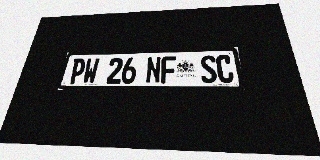2: (106, 58, 123, 84)
6: (121, 57, 137, 84)
C: (215, 55, 235, 83)
F: (161, 56, 176, 83)
N: (145, 57, 161, 84)
P: (68, 58, 87, 84)
S: (200, 55, 218, 83)
W: (82, 58, 100, 84)
